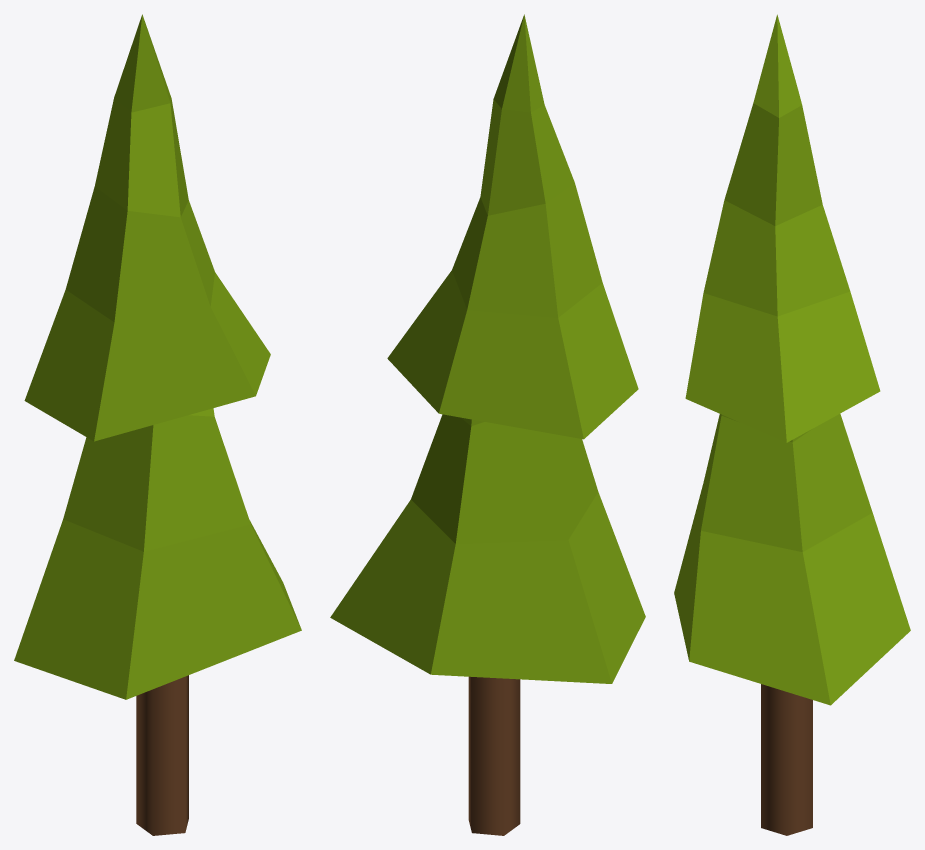
File: tannepoly1.FBX
3 renders of one model, left to right at view 1: azimuth 30°, elevation 25°; view 2: azimuth 150°, elevation 25°; view 3: azimuth 270°, elevation 25°, orthographic. The views are drawn at different scales.
Visible parts, largest first — view 1: Cone002, Cone001, Cylinder001; view 2: Cone002, Cone001, Cylinder001; view 3: Cone002, Cone001, Cylinder001.
Part boxes in pixels (bbox=[...]): Cone002: bbox=[14, 408, 301, 699]; Cone001: bbox=[24, 14, 270, 441]; Cylinder001: bbox=[136, 675, 188, 835]; Cone002: bbox=[330, 414, 645, 683]; Cone001: bbox=[387, 14, 638, 439]; Cylinder001: bbox=[468, 676, 520, 835]; Cone002: bbox=[674, 414, 910, 705]; Cone001: bbox=[685, 14, 880, 442]; Cylinder001: bbox=[761, 684, 812, 835].
Size of the model in its own units: 25.17 by 71.35 by 19.2.
Materials: 2 (2 with a texture image).
